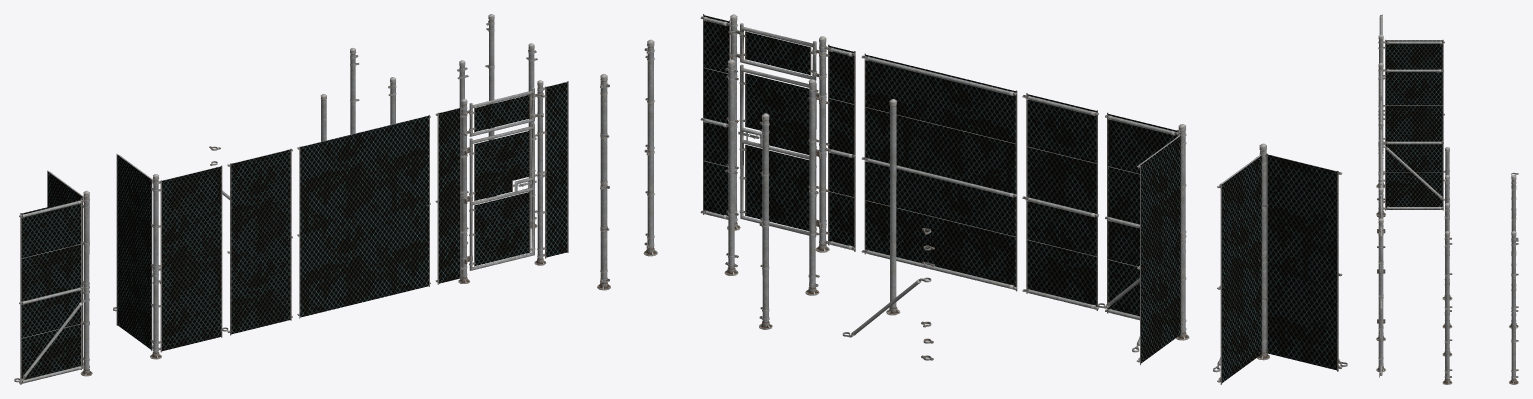
File: modular_chainlink_fence.glb
The picture shows the model from 3 angles, left to right: view 1: azimuth 30°, elevation 25°; view 2: azimuth 150°, elevation 25°; view 3: azimuth 270°, elevation 25°; orthographic projection. The views are drawn at different scales.
Parts seen in each view (by area): view 1: modular_chainlink_fence_double, modular_chainlink_fence_corner_outer, modular_chainlink_fence_corner_inner, modular_chainlink_fence_door_frame, modular_chainlink_fence, modular_chainlink_fence_door_gate, modular_chainlink_fence_start_01_corner_01, modular_chainlink_fence_start_01_corner_02, modular_chainlink_fence_end_02; view 2: modular_chainlink_fence_double, modular_chainlink_fence_corner_inner, modular_chainlink_fence_corner_outer, modular_chainlink_fence_door_frame, modular_chainlink_fence, modular_chainlink_fence_door_gate, modular_chainlink_fence_start_01_corner_02, modular_chainlink_post_middle, modular_chainlink_fence_end_01, modular_chainlink_fence_start_01_corner_01, modular_chainlink_fence_end_02, modular_chainlink_fence_post; view 3: modular_chainlink_fence_corner_outer, modular_chainlink_fence_corner_inner, modular_chainlink_fence_door_frame, modular_chainlink_fence_start_01_corner_02, modular_chainlink_fence_start_01_corner_01, modular_chainlink_fence_end_02, modular_chainlink_fence_double, modular_chainlink_fence_end_01, modular_chainlink_post_middle, modular_chainlink_fence_post.
Part boxes in pixels (x1,y1,x2,y2): modular_chainlink_fence_double: [297, 115, 430, 318]; modular_chainlink_fence_corner_outer: [113, 154, 228, 359]; modular_chainlink_fence_corner_inner: [14, 170, 92, 384]; modular_chainlink_fence_door_frame: [435, 80, 568, 284]; modular_chainlink_fence: [227, 148, 292, 335]; modular_chainlink_fence_door_gate: [469, 123, 535, 270]; modular_chainlink_fence_start_01_corner_01: [526, 43, 537, 228]; modular_chainlink_fence_start_01_corner_02: [485, 14, 496, 198]; modular_chainlink_fence_end_02: [350, 48, 359, 134]; modular_chainlink_fence_double: [861, 53, 1017, 291]; modular_chainlink_fence_corner_inner: [1213, 143, 1347, 384]; modular_chainlink_fence_corner_outer: [1097, 112, 1189, 365]; modular_chainlink_fence_door_frame: [700, 14, 855, 252]; modular_chainlink_fence: [1022, 93, 1098, 310]; modular_chainlink_fence_door_gate: [739, 64, 816, 236]; modular_chainlink_fence_start_01_corner_02: [597, 74, 610, 290]; modular_chainlink_post_middle: [724, 59, 738, 275]; modular_chainlink_fence_end_01: [805, 79, 819, 295]; modular_chainlink_fence_start_01_corner_01: [643, 39, 657, 256]; modular_chainlink_fence_end_02: [759, 113, 772, 329]; modular_chainlink_fence_post: [886, 99, 900, 315]; modular_chainlink_fence_corner_outer: [1376, 62, 1449, 234]; modular_chainlink_fence_corner_inner: [1376, 14, 1449, 188]; modular_chainlink_fence_door_frame: [1376, 182, 1385, 377]; modular_chainlink_fence_start_01_corner_02: [1509, 231, 1518, 384]; modular_chainlink_fence_start_01_corner_01: [1442, 231, 1452, 384]; modular_chainlink_fence_end_02: [1509, 175, 1518, 328]; modular_chainlink_fence_double: [1379, 126, 1382, 183]; modular_chainlink_fence_end_01: [1442, 175, 1452, 328]; modular_chainlink_post_middle: [1442, 203, 1452, 356]; modular_chainlink_fence_post: [1442, 147, 1452, 300].
Bounding box in the file's own units: 8.11 × 2.52 × 2.15.
Materials: 2 (2 with a texture image).
